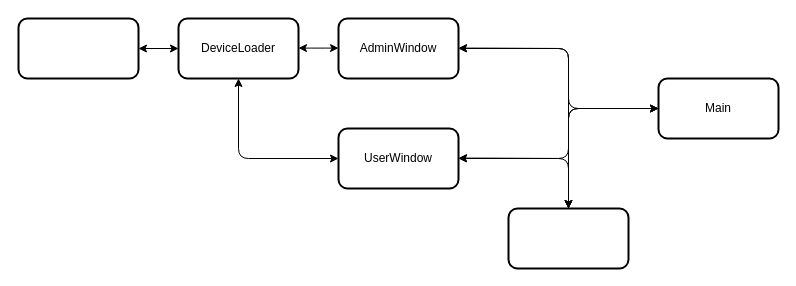
Some shapes in this 796 by 286 pixel diagram are drawn without their labels. The centre of each missing label's shape, as x and y in pixels:
"Database" goes at (568,238).
"Pneumatic system" goes at (78,48).
